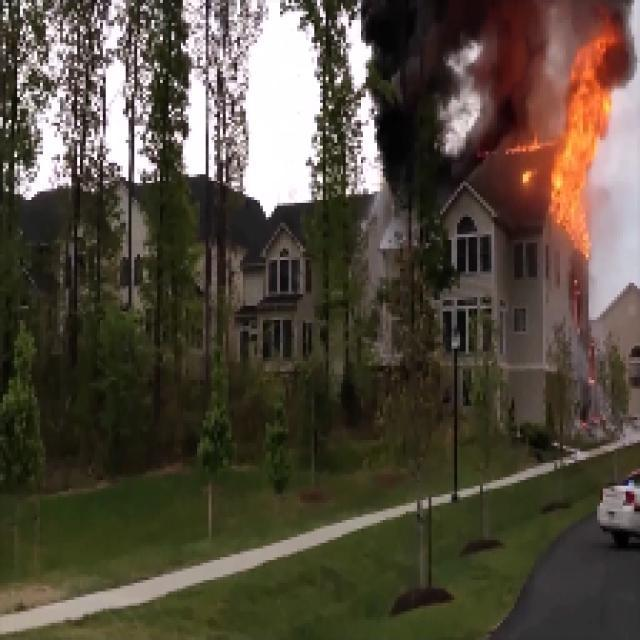Fire: (364, 5, 543, 144), (548, 77, 610, 222)
